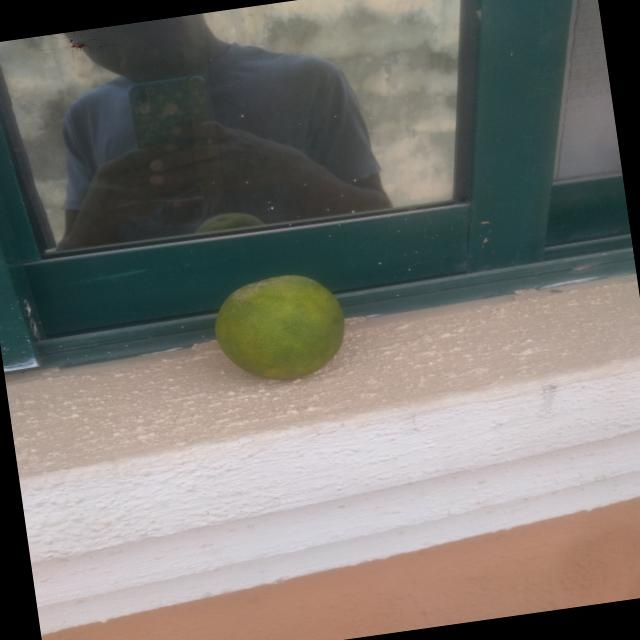agrume: (180, 255, 363, 397)
